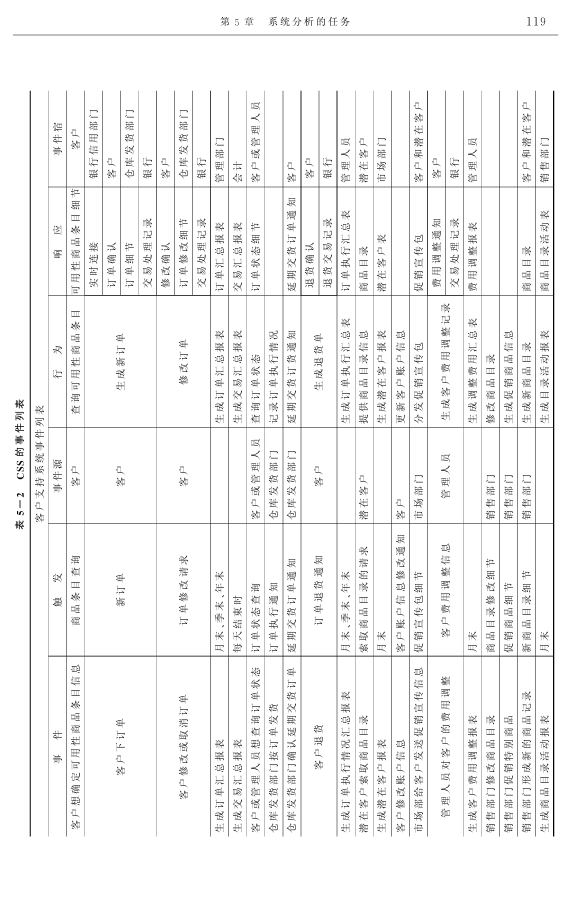table: (29, 90, 556, 837)
